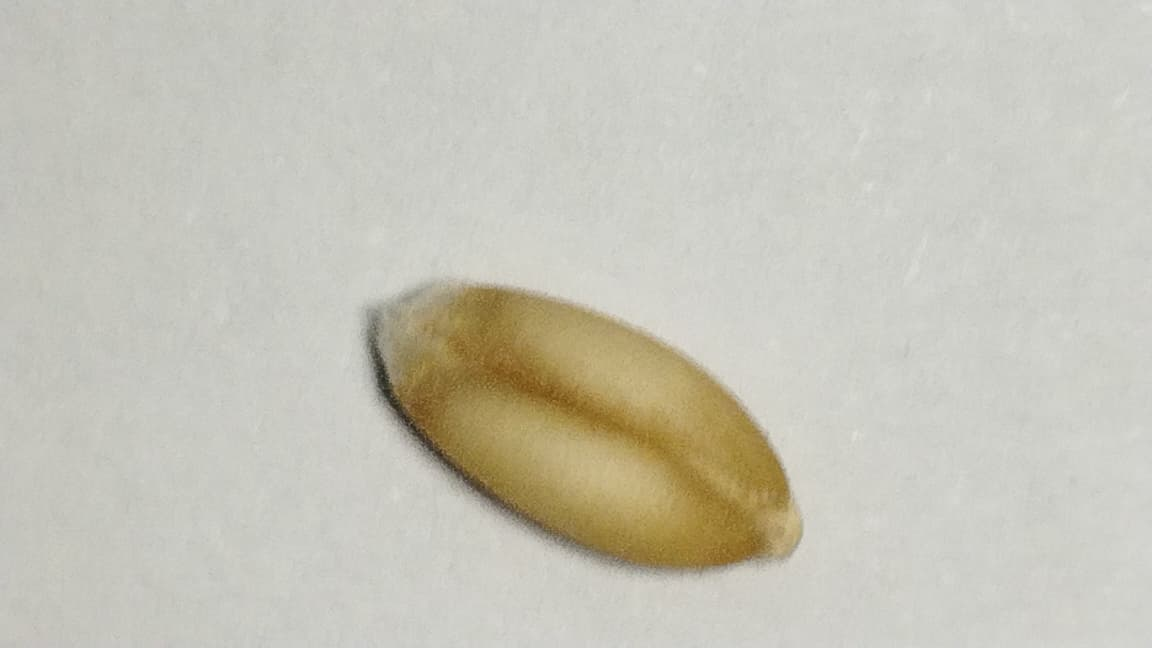healthy: (368, 278, 802, 569)
